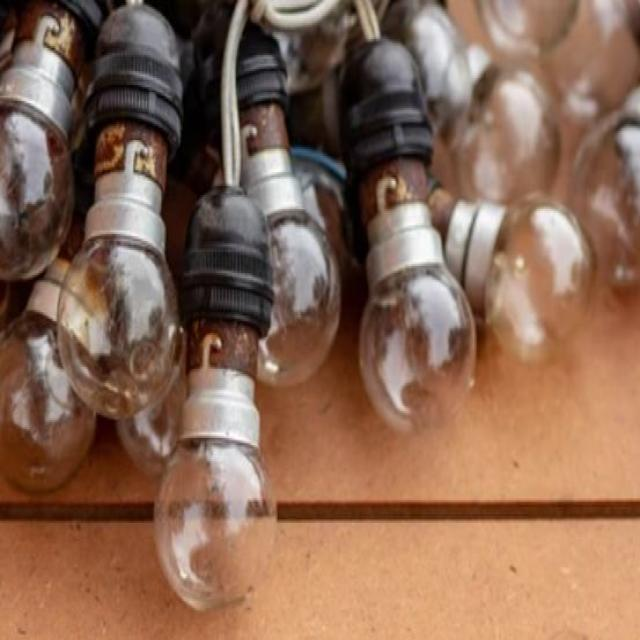electronic: (0, 0, 639, 610), (356, 179, 477, 434)
